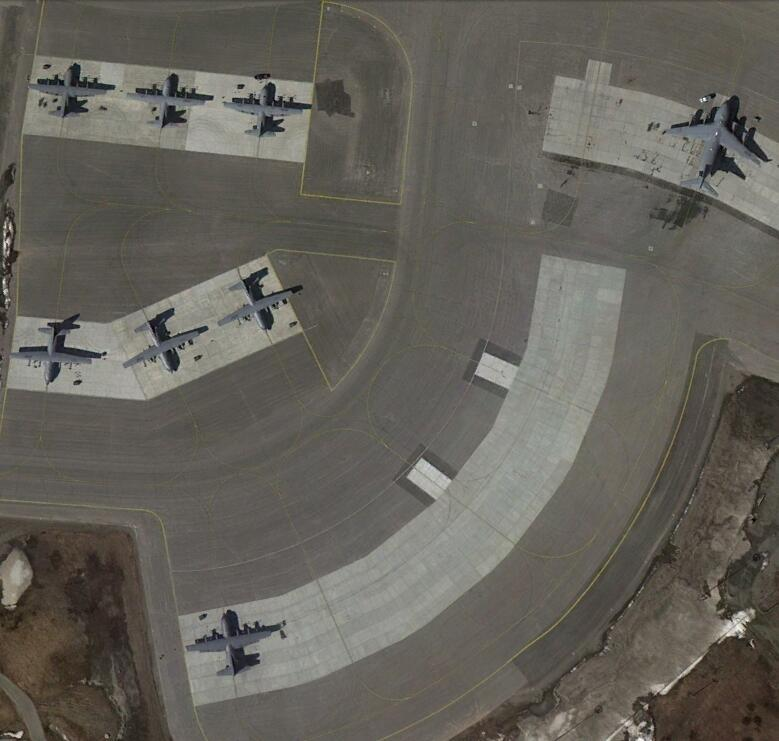A2: (182, 608, 277, 676), (118, 309, 202, 372), (214, 267, 294, 331), (10, 322, 92, 384), (222, 79, 304, 139), (28, 61, 116, 116), (125, 70, 204, 128)
A3: (662, 95, 764, 196)
